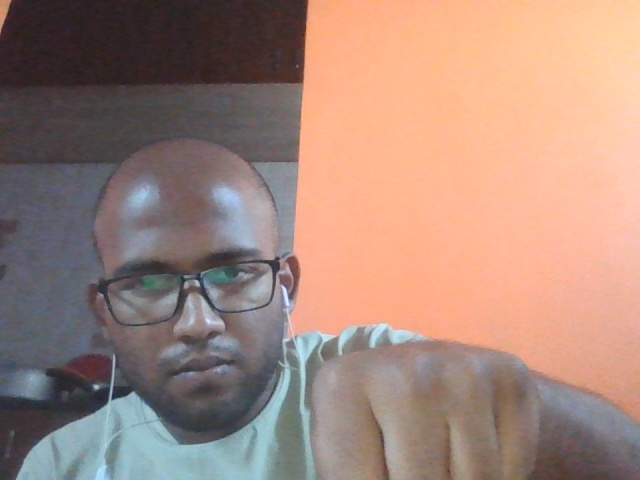yes: (278, 298, 554, 480)
